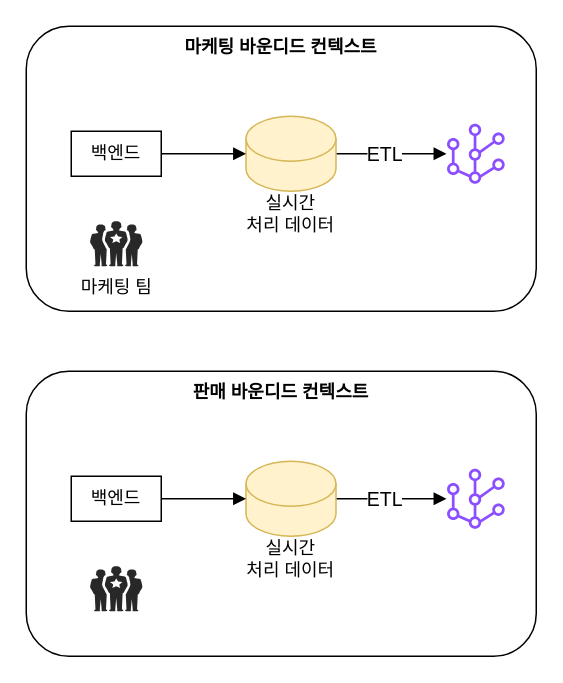
This 563x683 diagram has some shape labels left out. Each missing label, with the centre of its shape:
마케팅 분석 모델: pixel 475 153
판매 분석 모델: pixel 475 498
판매 팀: pixel 115 588
